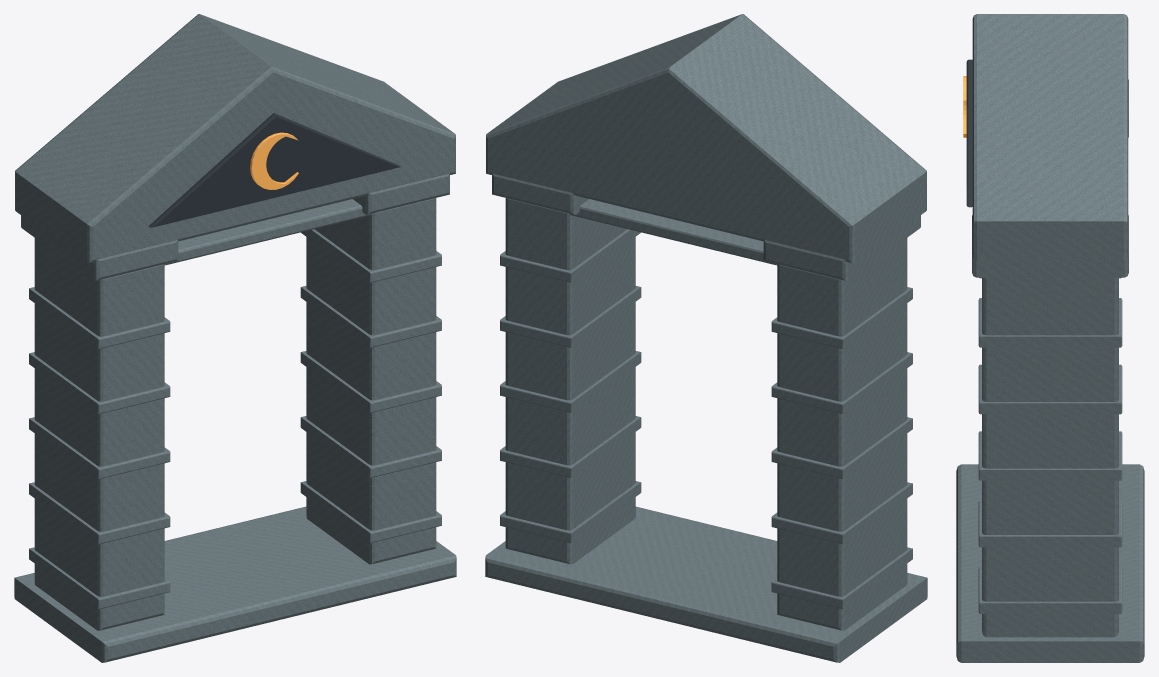
File: hollowwick-halloween-open-mausoleum-portal-b19ec9b0__21635.glb
The picture shows the model from 3 angles, left to right: view 1: azimuth 30°, elevation 25°; view 2: azimuth 150°, elevation 25°; view 3: azimuth 270°, elevation 25°; orthographic projection. The views are drawn at different scales.
Visible parts, largest first — view 1: open-mausoleum-portal; view 2: open-mausoleum-portal; view 3: open-mausoleum-portal.
Boxes of the visible parts, x1,y1,x2,y2 form: open-mausoleum-portal: [14, 14, 456, 662]; open-mausoleum-portal: [485, 14, 927, 662]; open-mausoleum-portal: [956, 14, 1144, 662].
Bounding box in the file's own units: 2.55 × 3.62 × 1.1.
3 materials, 1 textured.
